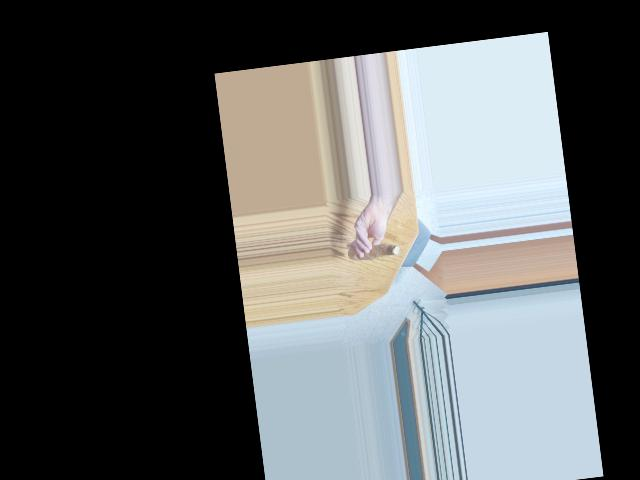sweet_potato: (350, 238, 397, 266)
